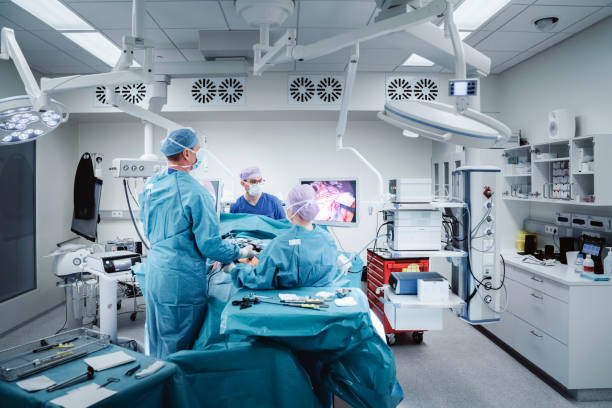bedside_monitor: (296, 175, 361, 228)
cabinet: (492, 139, 612, 205)
counter: (489, 247, 610, 400)
countertop: (505, 236, 612, 275)
electrosurgical_unit: (386, 270, 447, 295)
handle: (528, 290, 545, 302), (530, 328, 544, 341), (530, 274, 545, 284)
medical_drawer: (366, 245, 429, 345)
operating_bed: (181, 206, 341, 359)
patient: (220, 214, 271, 285)
staff: (139, 128, 256, 358), (223, 182, 338, 289), (229, 163, 287, 226)
surgical_instrument: (1, 328, 174, 408), (228, 287, 369, 315)
surgical_light: (375, 97, 512, 151), (1, 86, 72, 146)
